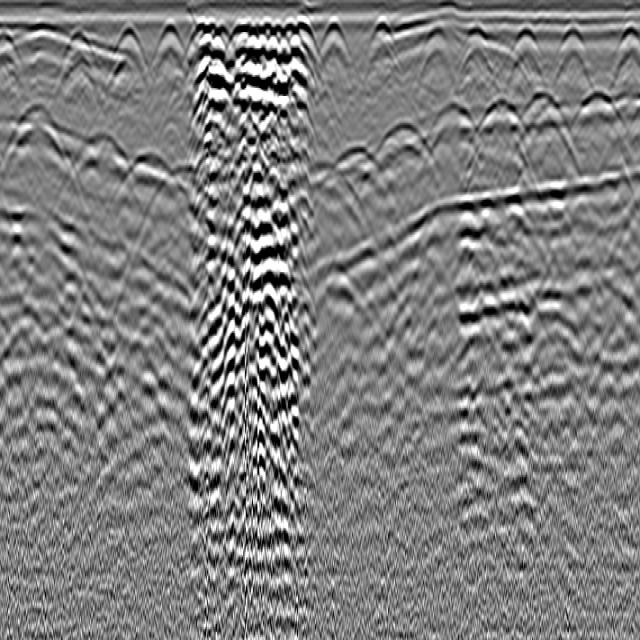hyperbola: (3, 95, 89, 199), (50, 128, 140, 214), (112, 142, 184, 209), (416, 94, 483, 160), (318, 137, 388, 196), (370, 116, 432, 175), (565, 85, 628, 140), (469, 96, 530, 151), (515, 88, 572, 141), (54, 27, 95, 84), (104, 19, 147, 67), (549, 27, 592, 73), (501, 25, 545, 69), (417, 25, 457, 72), (147, 23, 184, 71), (316, 18, 350, 65), (363, 20, 395, 59), (457, 28, 490, 62), (615, 21, 639, 59), (0, 32, 25, 65)
